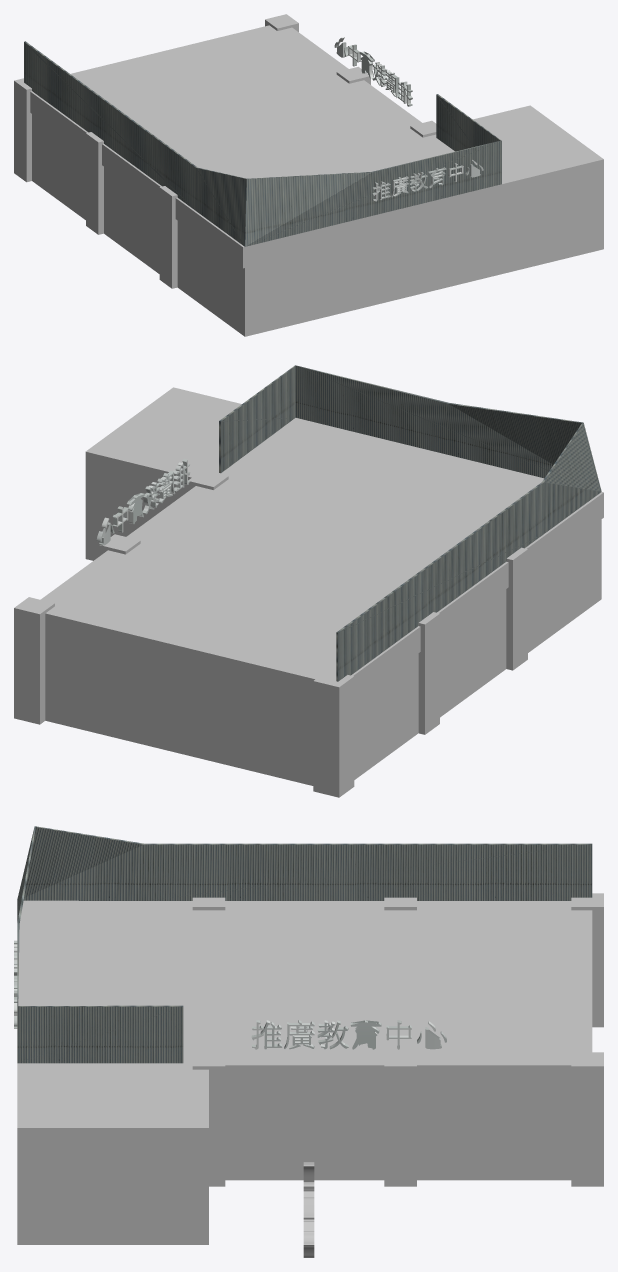
The picture shows the model from 3 angles, top to bottom: view 1: azimuth 30°, elevation 25°; view 2: azimuth 150°, elevation 25°; view 3: azimuth 270°, elevation 25°; orthographic projection. The views are drawn at different scales.
Parts seen in each view (by area): view 1: Z; view 2: Z; view 3: Z, H_type.
Boxes of the visible parts, left/top/right/bottom form: Z: left=14, top=14, right=603, bottom=336; Z: left=14, top=365, right=603, bottom=797; Z: left=14, top=826, right=603, bottom=1244; H_type: left=303, top=1162, right=314, bottom=1257.
Bounding box in the file's own units: 1047 × 519 × 1128.
